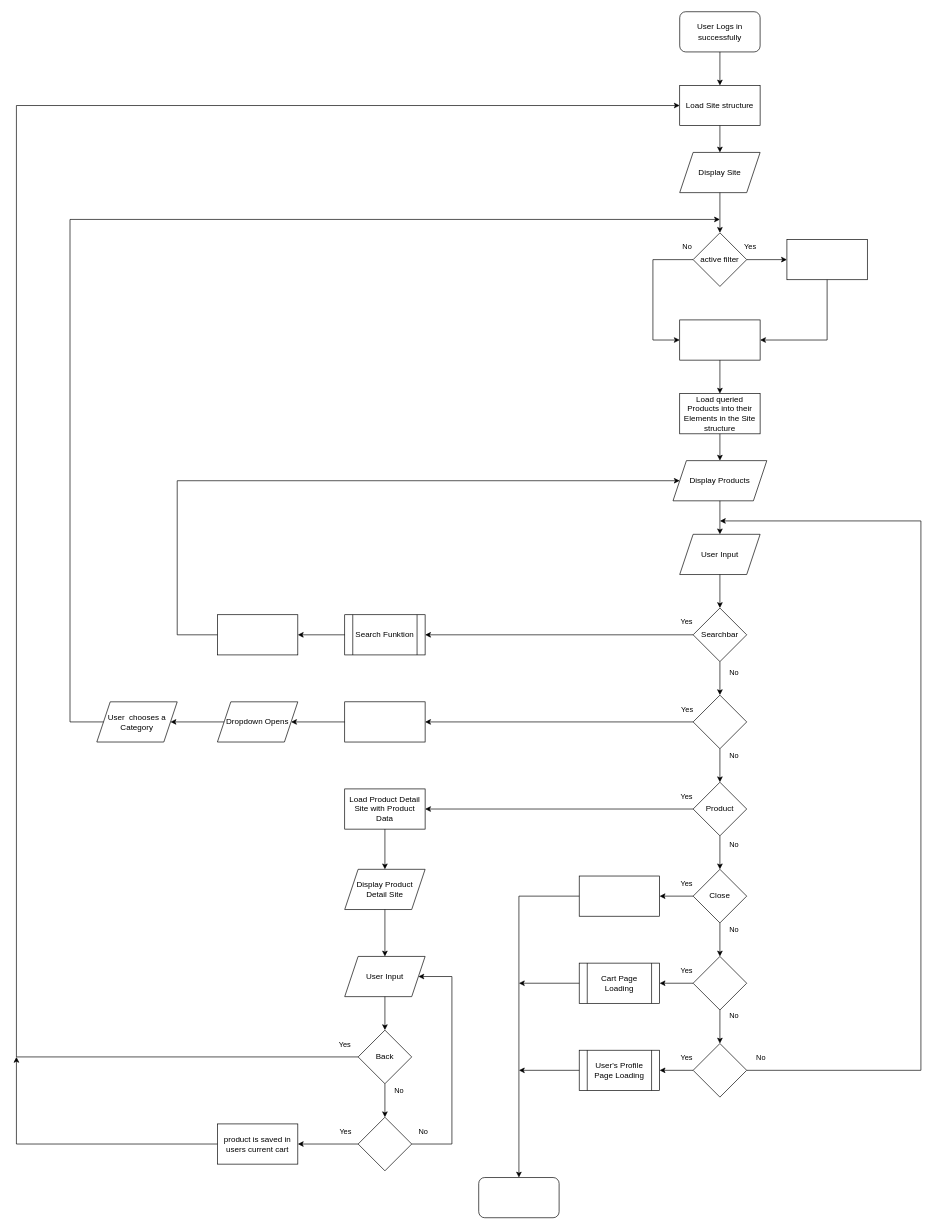
The diagram is 938 pixels wide and 1229 high, and some of its shapes have lost their labels. Each missing label, with the centre of its shape:
"Cart" goes at point (719, 983).
"Filter dropdown" goes at point (719, 721).
"Load Categories into Dropdown" goes at point (384, 721).
"Load Filter" goes at point (826, 259).
"Load Results of search into their elements" goes at point (257, 634).
"Profile" goes at point (719, 1070).
"query for Products" goes at point (719, 339).
"Save in Cart" goes at point (384, 1144).
"Site Closes" goes at point (619, 895).
"Stop" goes at point (518, 1197).
